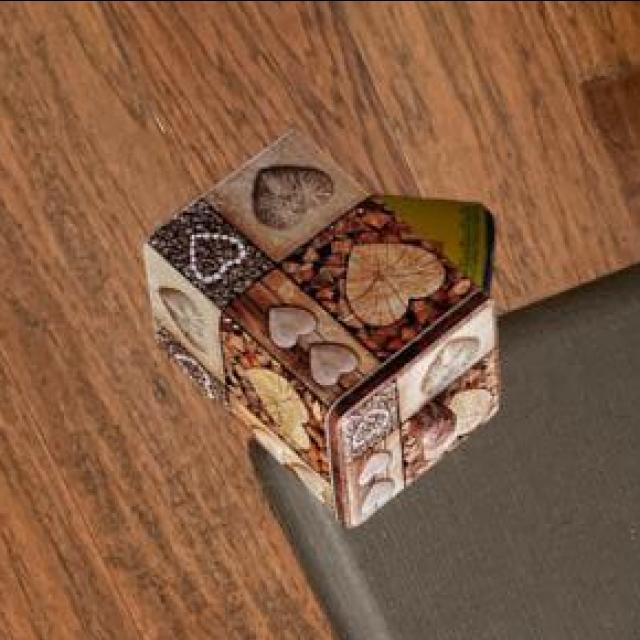logam: (147, 131, 504, 531), (378, 198, 498, 295)
